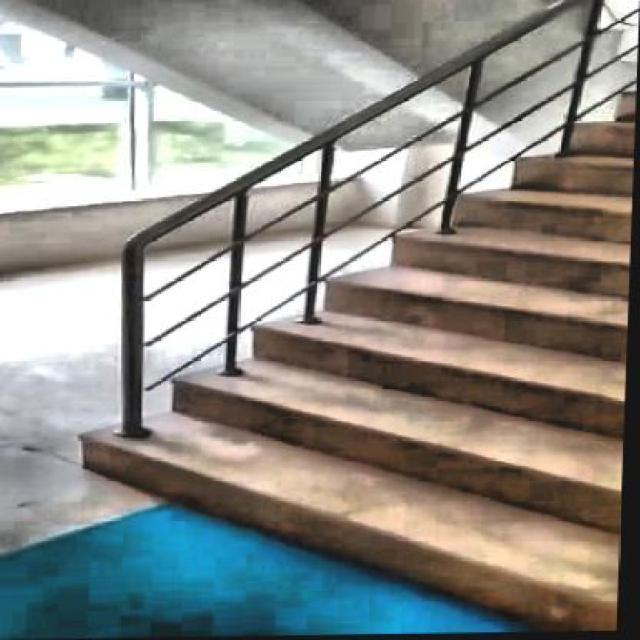stair: (29, 43, 637, 639)
